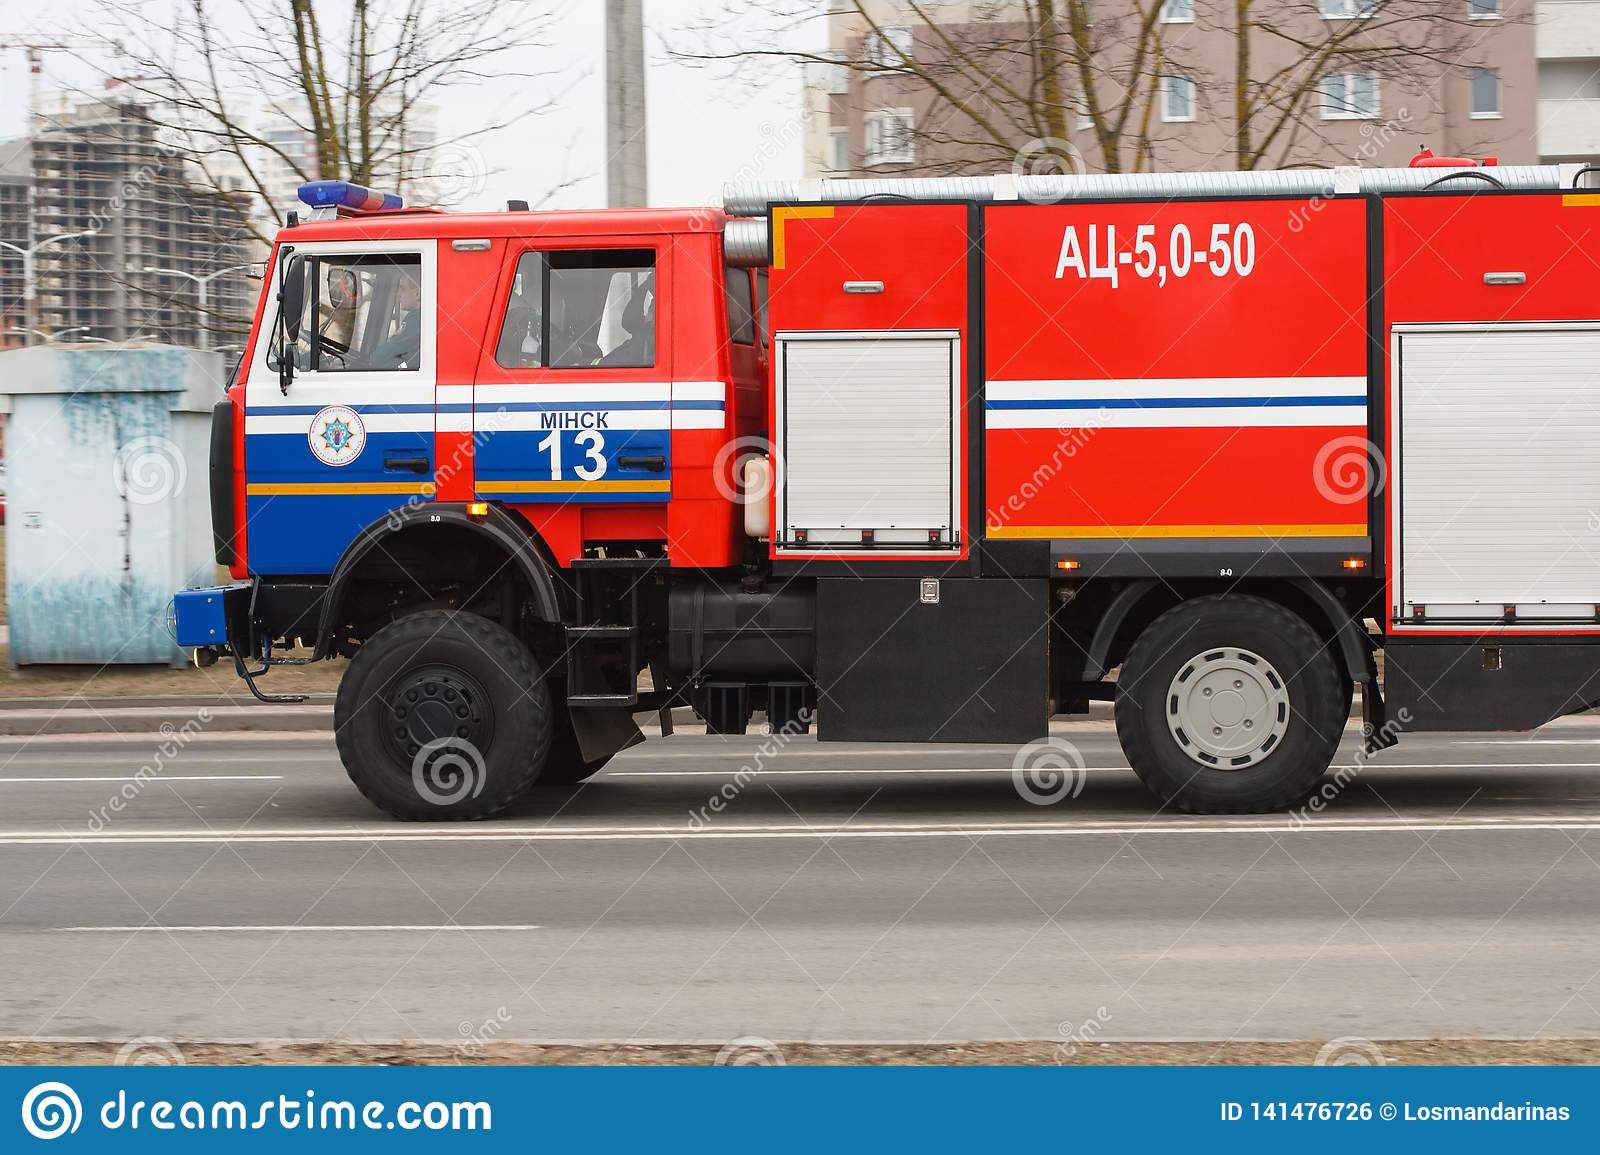special: (173, 173, 1600, 822)
